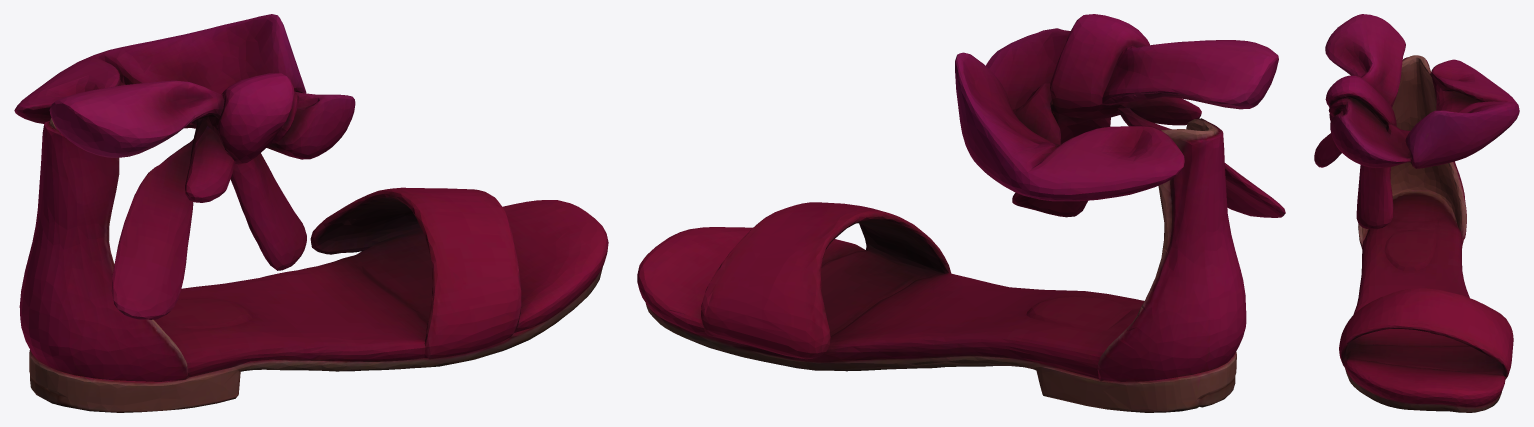
3 renders of one model, left to right at view 1: azimuth 30°, elevation 25°; view 2: azimuth 150°, elevation 25°; view 3: azimuth 270°, elevation 25°, orthographic. The views are drawn at different scales.
Visible parts, largest first — view 1: world; view 2: world; view 3: world.
Boxes of the visible parts, left/top/right/bottom form: world: left=14, top=14, right=608, bottom=412; world: left=637, top=14, right=1285, bottom=412; world: left=1314, top=14, right=1519, bottom=412.
Bounding box in the file's own units: 1 × 0.5743 × 0.4636.
1 material, 1 textured.
